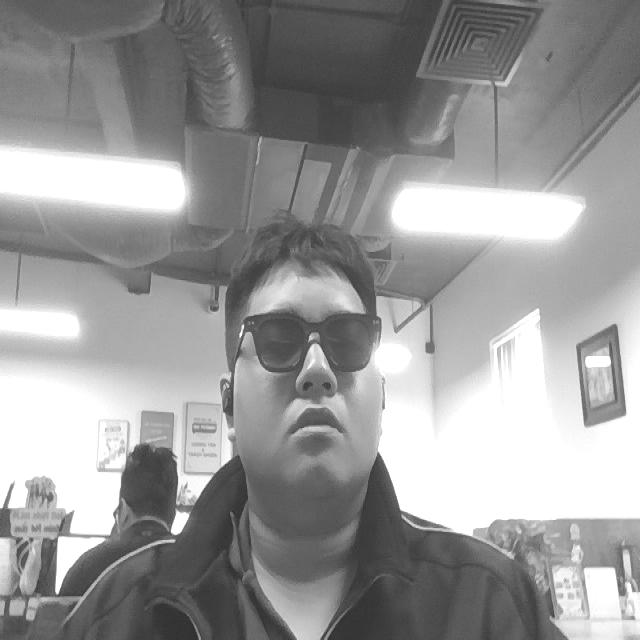fake: (243, 305, 388, 380)
real: (232, 227, 388, 532)
